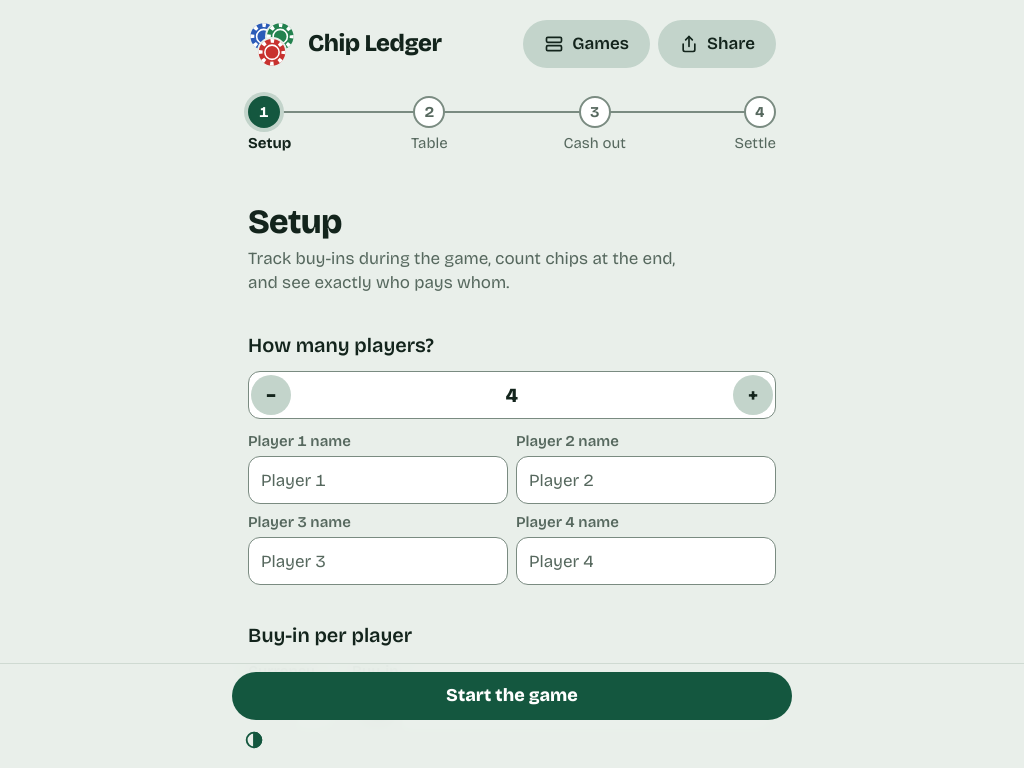
Test: ChipLedgerApp: Games (SPEC-0003 REQ-0003-17) › lists this device's own game as the one open when sharing is set up
What coordinates should you click on to do the following:
click the button "Games"
I would click on:
 (587, 44)
Its box is left=523, top=20, right=650, bottom=68.
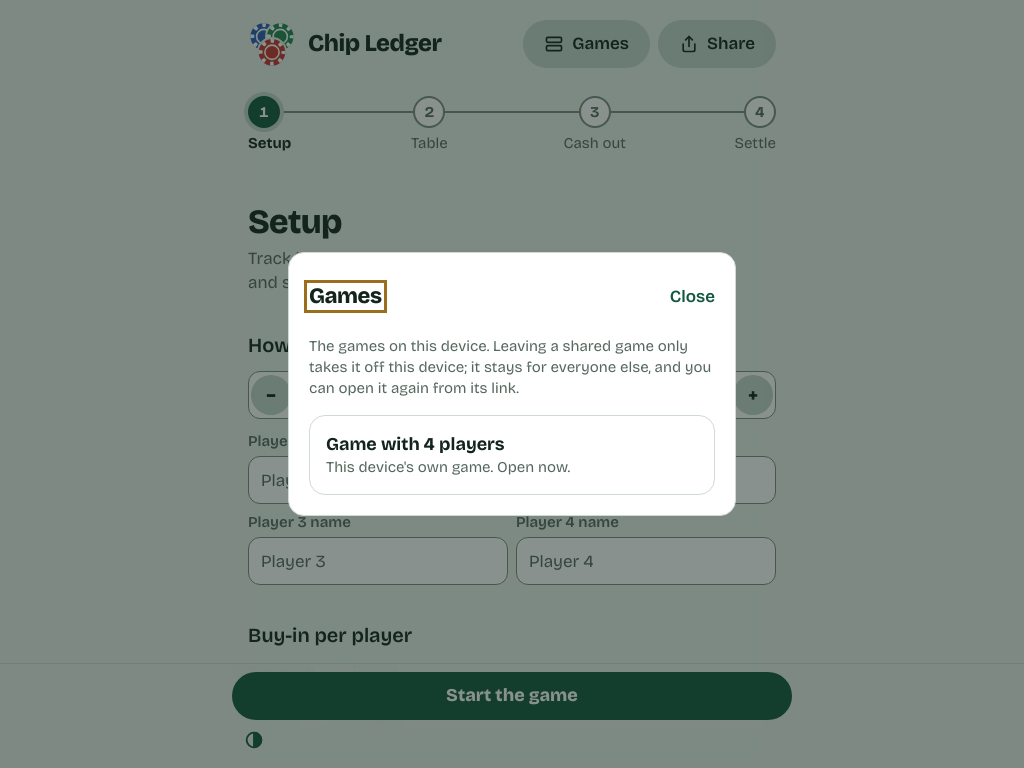
Now the dialog "Games" shows "This device's own game. Open now.", box left=326, top=458, right=570, bottom=476
